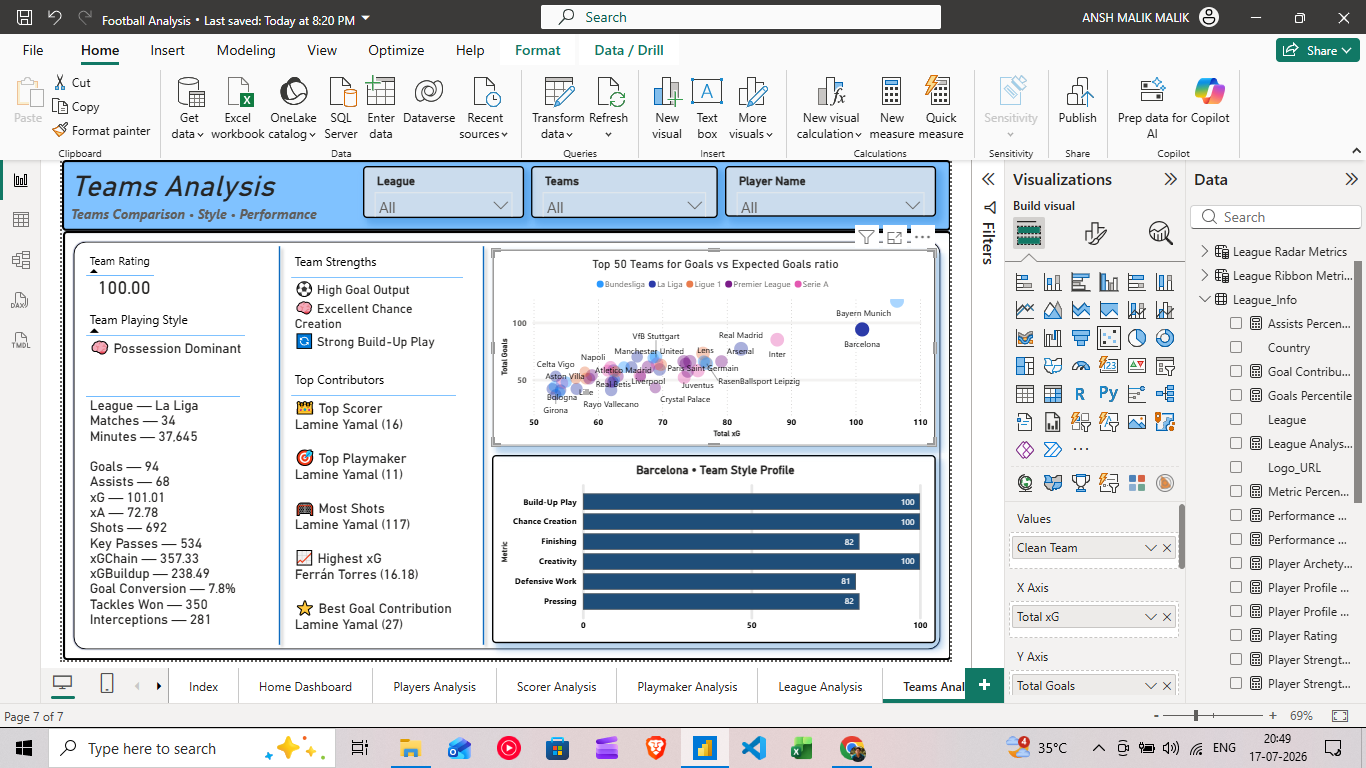

What the dashboard file says about the page in this screenshot:
{"tool":"powerbi","page":{"name":"Teams Analysis","canvas":[1280,720],"ordinal":6},"visuals":[{"type":"textbox","title":"Teams Analysis","box":[0,0,1280.2,102.2],"z":0},{"type":"slicer","fields":{"Values":["Table2.Clean Team"]},"box":[675.4,8.6,269.3,74.9],"z":1000},{"type":"slicer","title":"Leagues","fields":{"Values":["Table2.League"]},"box":[433.4,8.6,231.8,74.9],"z":2000},{"type":"slicer","fields":{"Values":["Table2.player_name"]},"box":[954.7,8.6,303.8,73.4],"z":3000},{"type":"shape","title":"PLAYER SCOUTING REPORT","box":[1.4,102.2,1278.7,617.8],"z":4000},{"type":"tableEx","fields":{"Values":["Attacker Radar Metrics.Team Profile"]},"box":[28.8,311,250.6,384.5],"z":5000},{"type":"tableEx","fields":{"Values":["Attacker Radar Metrics.Team Playing Style"]},"box":[28.8,211.7,275,86.4],"z":6000},{"type":"shape","box":[279.4,115.2,67.7,591.8],"z":7000},{"type":"tableEx","fields":{"Values":["Attacker Radar Metrics.Team Strengths"]},"box":[324,128.2,267.8,159.8],"z":8000},{"type":"tableEx","fields":{"Values":["Attacker Radar Metrics.Team Rating"]},"box":[28.8,128.2,180,80.6],"z":9000},{"type":"tableEx","fields":{"Values":["Attacker Radar Metrics.Top Contributors"]},"box":[324,298.1,267.8,397.4],"z":10000},{"type":"shape","box":[573.1,115.2,67.7,591.8],"z":11000},{"type":"scatterChart","fields":{"Category":["Table2.Clean Team"],"Series":["Table2.League"],"Size":["Table2.Total Key Passes"],"X":["Table2.Total xG"],"Y":["Table2.Total Goals"]},"box":[619.2,128.2,639.4,283.7],"z":12000},{"type":"clusteredBarChart","fields":{"Category":["Team Style Metrics.Metric"],"Y":["Team Style Metrics.Team Style Score"]},"box":[619.2,424.8,639.4,270.7],"z":13000}]}

Visuals, with their boxes on the page's 1280x720 design canvas (x1, y1, x2, y2). These are canvas units, not pixel positions in the 1366x768 screenshot, which may show the page scaled, cropped or inside an application window:
"Teams Analysis" textbox: [0, 0, 1280, 102]
slicer - Table2.Clean Team: [675, 9, 945, 84]
"Leagues" slicer: [433, 9, 665, 84]
slicer - Table2.player_name: [955, 9, 1258, 82]
"PLAYER SCOUTING REPORT" shape: [1, 102, 1280, 720]
tableEx - Attacker Radar Metrics.Team Profile: [29, 311, 279, 696]
tableEx - Attacker Radar Metrics.Team Playing Style: [29, 212, 304, 298]
shape: [279, 115, 347, 707]
tableEx - Attacker Radar Metrics.Team Strengths: [324, 128, 592, 288]
tableEx - Attacker Radar Metrics.Team Rating: [29, 128, 209, 209]
tableEx - Attacker Radar Metrics.Top Contributors: [324, 298, 592, 696]
shape: [573, 115, 641, 707]
scatterChart - Table2.Clean Team x Table2.League: [619, 128, 1259, 412]
clusteredBarChart - Team Style Metrics.Metric x Team Style Metrics.Team Style Score: [619, 425, 1259, 696]
